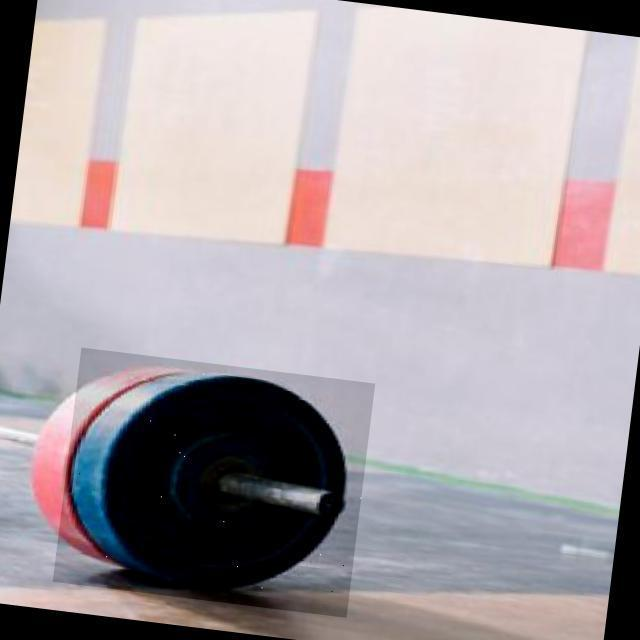barbell: (53, 348, 376, 618)
